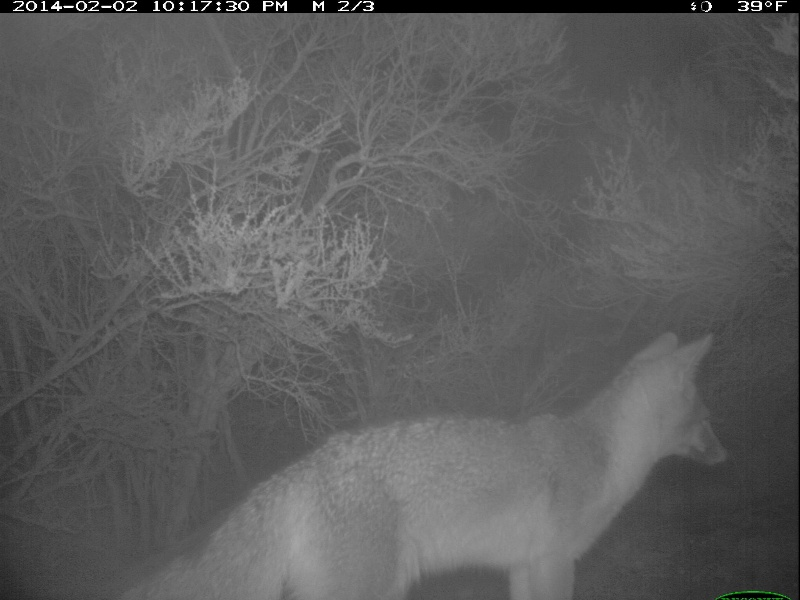coyote: (130, 331, 732, 600)
